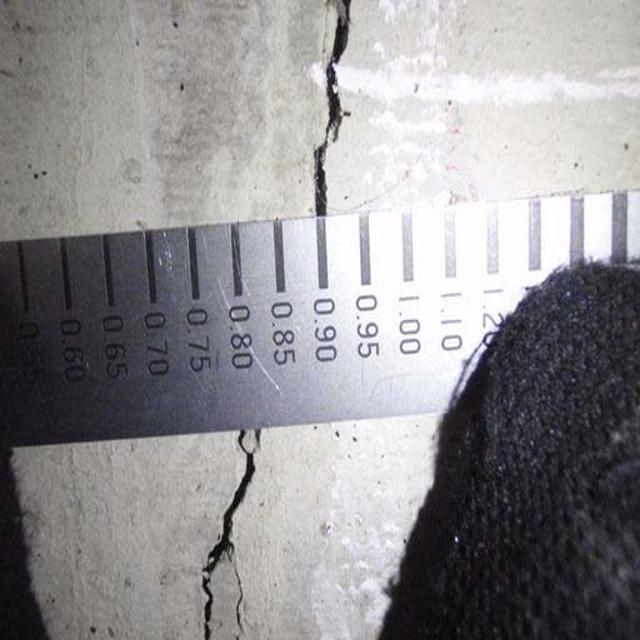crack: (167, 440, 277, 640), (307, 1, 354, 223)
